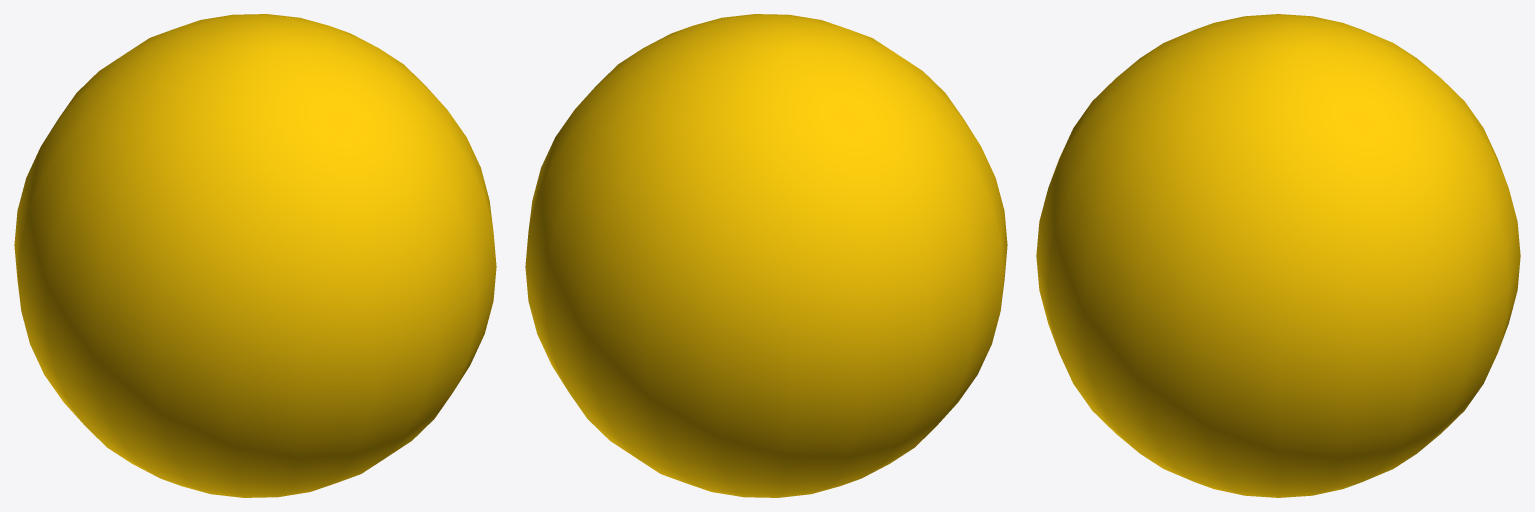
Rendered from itemtest.fbx.
The picture shows the model from 3 angles, left to right: view 1: azimuth 30°, elevation 25°; view 2: azimuth 150°, elevation 25°; view 3: azimuth 270°, elevation 25°; orthographic projection.
Visible parts, largest first — view 1: pSphere2; view 2: pSphere2; view 3: pSphere2.
Boxes of the visible parts, <box> form: pSphere2: <box>14,14,496,497</box>; pSphere2: <box>525,14,1007,497</box>; pSphere2: <box>1036,14,1520,497</box>.
Bounding box in the file's own units: 140 × 140 × 140.
